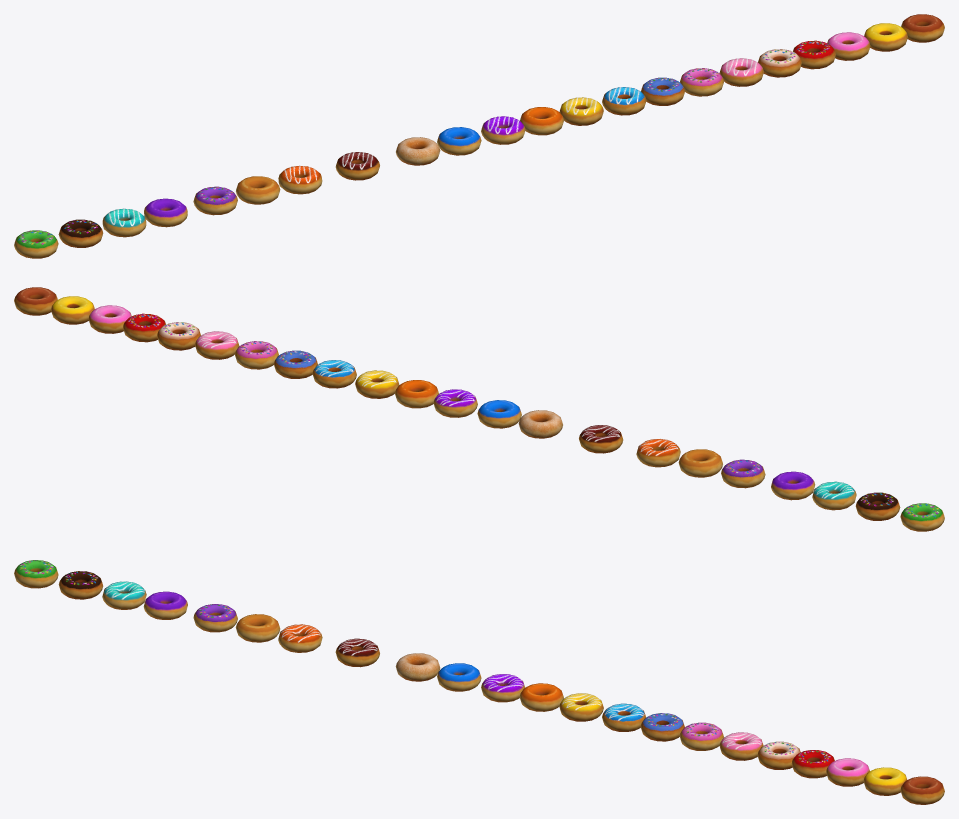
Rendered from donouts.fbx.
3 renders of one model, top to bottom at view 1: azimuth 30°, elevation 25°; view 2: azimuth 150°, elevation 25°; view 3: azimuth 330°, elevation 25°, orthographic.
Visible parts, largest first — view 1: Donut_10_6, Donut_03, Donut_10_3, Donut_10_5, Donut_09, Donut_12, Donut_10_8, Donut_10_2, Donut_02_4, Donut_01_7, Donut_11, Donut_01_3 (+10 smaller); view 2: Donut_03, Donut_10_3, Donut_10_5, Donut_09, Donut_12, Donut_10_6, Donut_10_2, Donut_02_4, Donut_01_7, Donut_11, Donut_10_8, Donut_01_3 (+10 smaller); view 3: Donut_03, Donut_10_8, Donut_02_4, Donut_12, Donut_09, Donut_01_8, Donut_11, Donut_10_6, Donut_01_7, Donut_10, Donut_10_5, Donut_01_3 (+10 smaller).
Part boxes in pixels (x1=…): Donut_10_6: x1=102, y1=208, x2=146, y2=237; Donut_03: x1=236, y1=176, x2=280, y2=204; Donut_10_3: x1=602, y1=87, x2=646, y2=115; Donut_10_5: x1=335, y1=152, x2=379, y2=180; Donut_09: x1=396, y1=137, x2=440, y2=165; Donut_12: x1=14, y1=230, x2=58, y2=258; Donut_10_8: x1=278, y1=165, x2=322, y2=194; Donut_10_2: x1=481, y1=116, x2=525, y2=144; Donut_02_4: x1=58, y1=219, x2=103, y2=247; Donut_01_7: x1=437, y1=127, x2=481, y2=155; Donut_11: x1=193, y1=186, x2=237, y2=215; Donut_01_3: x1=144, y1=198, x2=187, y2=227; Donut_03: x1=678, y1=449, x2=722, y2=477; Donut_10_3: x1=312, y1=360, x2=356, y2=388; Donut_10_5: x1=579, y1=425, x2=623, y2=453; Donut_09: x1=518, y1=410, x2=562, y2=438; Donut_12: x1=900, y1=503, x2=944, y2=531; Donut_10_6: x1=812, y1=481, x2=856, y2=510; Donut_10_2: x1=433, y1=389, x2=477, y2=417; Donut_02_4: x1=855, y1=492, x2=900, y2=520; Donut_01_7: x1=477, y1=400, x2=521, y2=428; Donut_11: x1=721, y1=459, x2=765, y2=488; Donut_10_8: x1=636, y1=439, x2=680, y2=467; Donut_01_3: x1=771, y1=471, x2=815, y2=500; Donut_03: x1=235, y1=614, x2=280, y2=642; Donut_10_8: x1=278, y1=624, x2=322, y2=652; Donut_02_4: x1=58, y1=571, x2=103, y2=599; Donut_12: x1=14, y1=560, x2=58, y2=588; Donut_09: x1=395, y1=653, x2=440, y2=681; Donut_01_8: x1=900, y1=776, x2=944, y2=804; Donut_11: x1=193, y1=604, x2=237, y2=632; Donut_10_6: x1=102, y1=581, x2=146, y2=609; Donut_01_7: x1=437, y1=663, x2=481, y2=691; Donut_10: x1=559, y1=693, x2=603, y2=721; Donut_10_5: x1=335, y1=638, x2=379, y2=667; Donut_01_3: x1=143, y1=591, x2=187, y2=619.
Bounding box in the file's own units: 2267 × 36.86 × 94.87.
12 materials, 12 textured.
